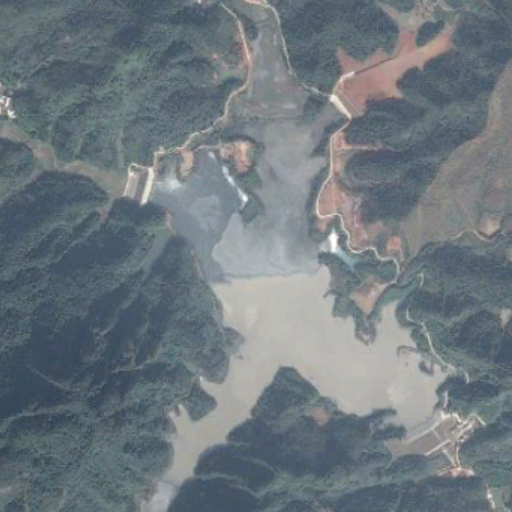tp: (123, 14, 465, 512)
